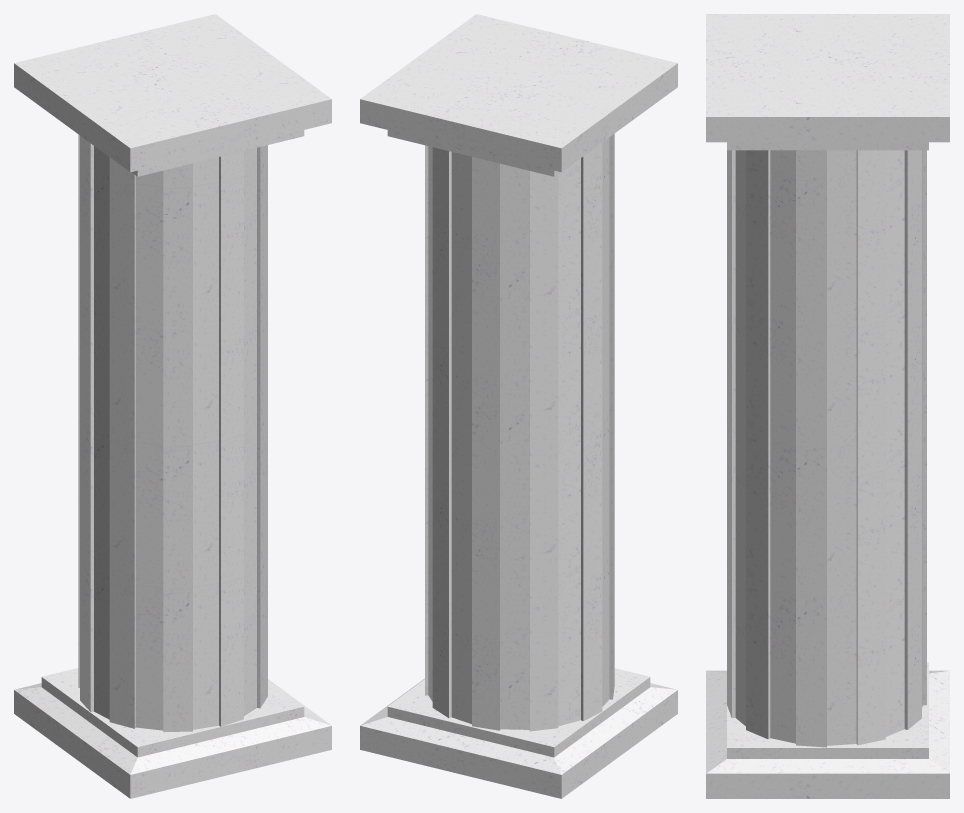
File: pillar.fbx
3 views of the same model, side by side, from view 1: azimuth 30°, elevation 25°; view 2: azimuth 150°, elevation 25°; view 3: azimuth 270°, elevation 25° (orthographic). The views are drawn at different scales.
Parts seen in each view (by area): view 1: pCylinder1, pCube2, pCube1; view 2: pCylinder1, pCube2, pCube1; view 3: pCylinder1, pCube2, pCube1.
Part boxes in pixels (x1,y1,x2,y2): pCylinder1: (78,134,267,732); pCube2: (14,14,331,176); pCube1: (14,668,331,798); pCylinder1: (425,134,614,731); pCube2: (360,14,677,176); pCube1: (360,668,677,798); pCylinder1: (727,150,926,747); pCube2: (706,14,949,150); pCube1: (706,662,949,798).
Bounding box in the file's own units: 4 × 12.34 × 4.
Materials: 1 (1 with a texture image).
